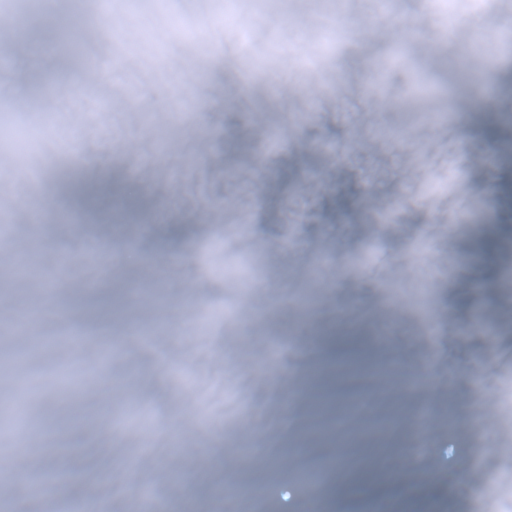Iceberg: (443, 445, 453, 458), (281, 491, 290, 501)
